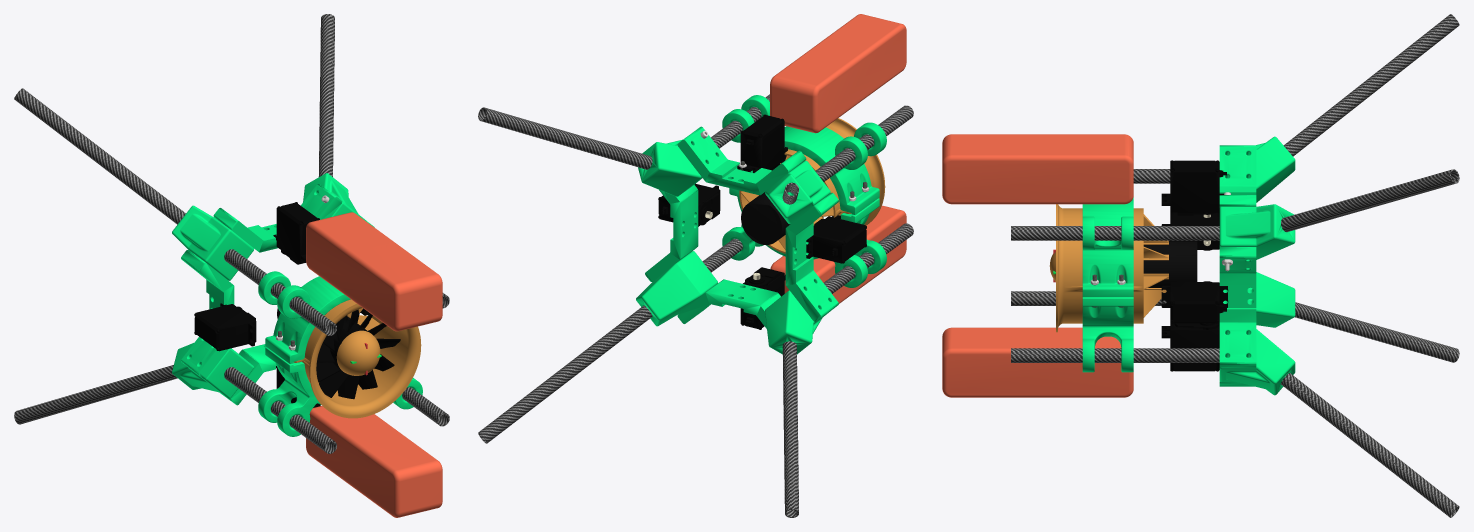
The model's file is drone_visual.glb.
3 renders of one model, left to right at view 1: azimuth 30°, elevation 25°; view 2: azimuth 150°, elevation 25°; view 3: azimuth 270°, elevation 25°, orthographic. The views are drawn at different scales.
Visible parts, largest first — view 1: Body, EDFRotor; view 2: Body; view 3: Body.
Part boxes in pixels (x1,y1,x2,y2): Body: [14, 14, 449, 517]; EDFRotor: [316, 309, 400, 399]; Body: [478, 14, 913, 517]; Body: [942, 14, 1459, 517].
Size of the model in its own units: 0.3127 by 0.3127 by 0.4216.
Materials: 16 (2 with a texture image).
